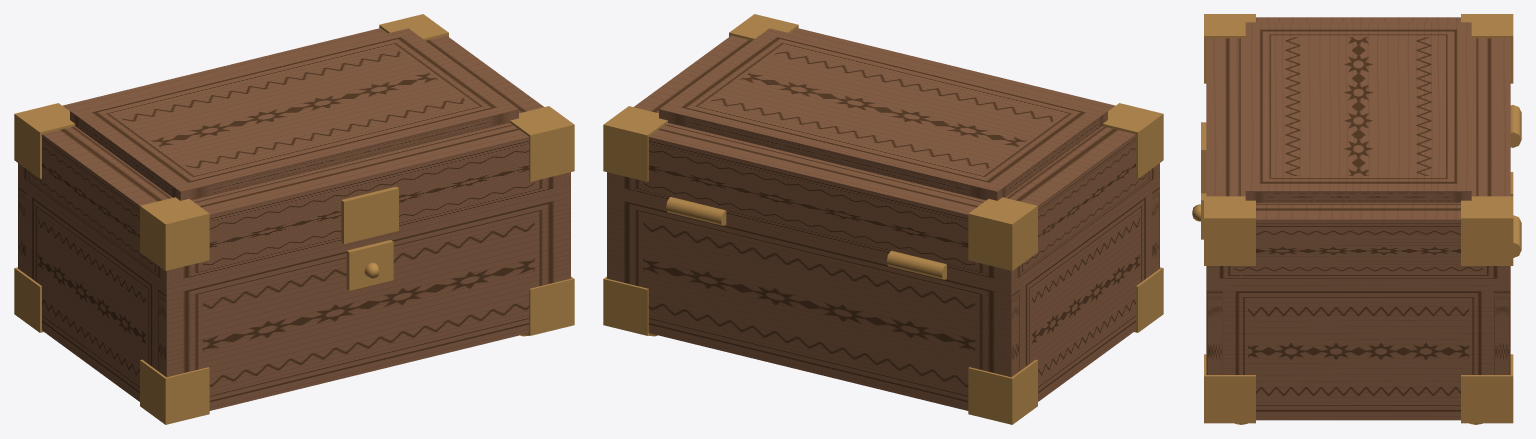
The model's file is prop-jewel-box.glb.
The picture shows the model from 3 angles, left to right: view 1: azimuth 30°, elevation 25°; view 2: azimuth 150°, elevation 25°; view 3: azimuth 270°, elevation 25°; orthographic projection. The views are drawn at different scales.
Visible parts, largest first — view 1: lid_CarvedWood, piece_CarvedWood, lid_Brass, piece_Brass; view 2: lid_CarvedWood, piece_CarvedWood, lid_Brass, piece_Brass; view 3: lid_CarvedWood, piece_CarvedWood, lid_Brass, piece_Brass.
Part boxes in pixels (bbox=[...]): lid_CarvedWood: bbox=[18, 28, 570, 286]; piece_CarvedWood: bbox=[18, 178, 570, 410]; lid_Brass: bbox=[14, 14, 574, 270]; piece_Brass: bbox=[14, 240, 574, 424]; lid_CarvedWood: bbox=[607, 28, 1159, 286]; piece_CarvedWood: bbox=[607, 178, 1159, 410]; lid_Brass: bbox=[603, 14, 1163, 270]; piece_Brass: bbox=[603, 197, 1163, 424]; lid_CarvedWood: bbox=[1206, 17, 1510, 282]; piece_CarvedWood: bbox=[1206, 282, 1510, 420]; lid_Brass: bbox=[1201, 14, 1513, 265]; piece_Brass: bbox=[1192, 105, 1521, 424].
Size of the model in its own units: 0.2224 by 0.117 by 0.1515.
Materials: 4 (1 with a texture image).
